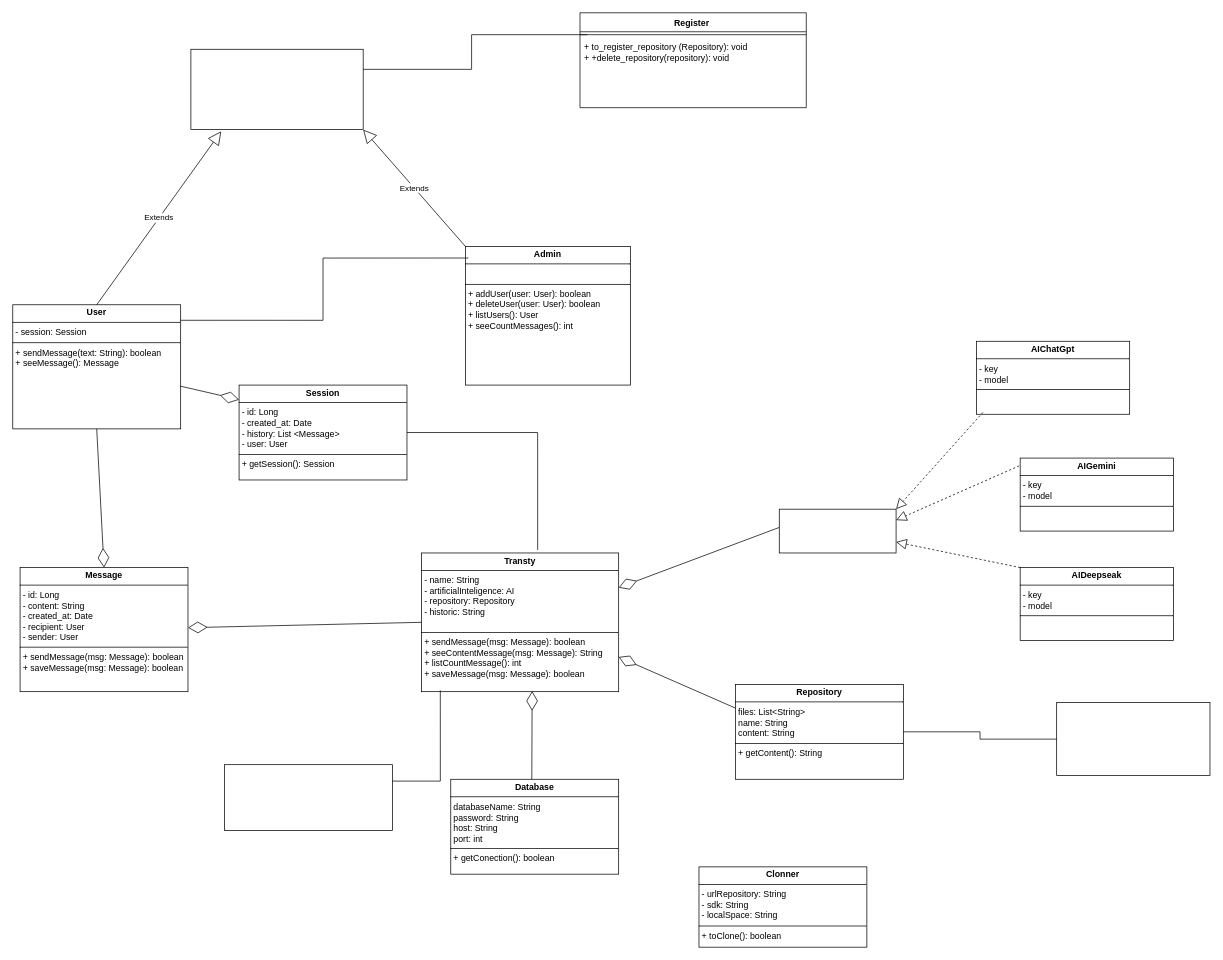
This 1223x960 diagram has some shape labels left out. The centre of each missing label's shape, as x and y in pixels:
"<<Interface>> AI + sendMessage(): int" belongs at pixel 837 530.
"Extractor + toClone(repo: Repository): String" belongs at pixel 308 797.
"People - id: Long - userName: String - password: String - email: String" belongs at pixel 276 89.
"Recipient - content: String - docs: Repository - getContext(): String" belongs at pixel 1133 739.
